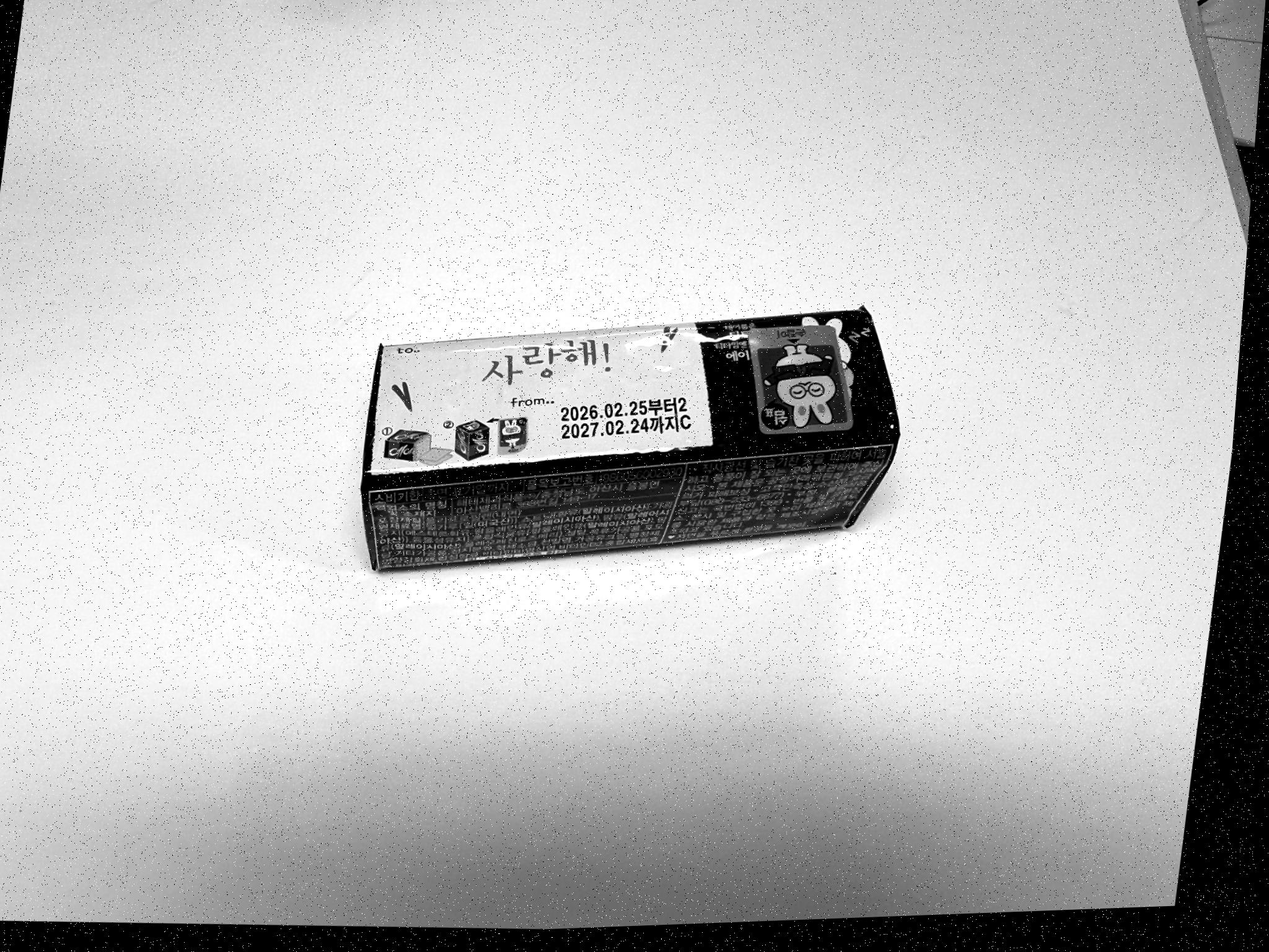cracker_ace: (357, 305, 901, 572)
